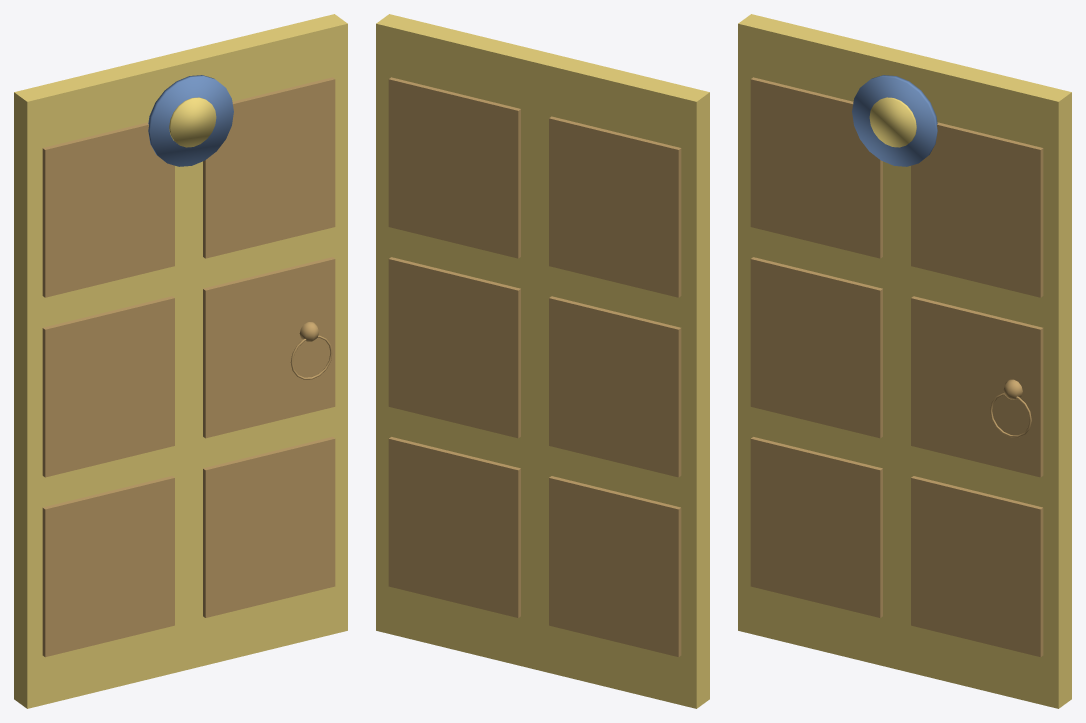
File: olimpo_hoja.glb
3 renders of one model, left to right at view 1: azimuth 30°, elevation 25°; view 2: azimuth 150°, elevation 25°; view 3: azimuth 330°, elevation 25°, orthographic.
Parts seen in each view (by area): view 1: olimpo_hoja; view 2: olimpo_hoja; view 3: olimpo_hoja.
Part boxes in pixels (left/top/right/bottom): olimpo_hoja: left=14, top=14, right=347, bottom=708; olimpo_hoja: left=376, top=14, right=709, bottom=708; olimpo_hoja: left=738, top=14, right=1071, bottom=708.
Bounding box in the file's own units: 4.2 × 7.6 × 0.55.
